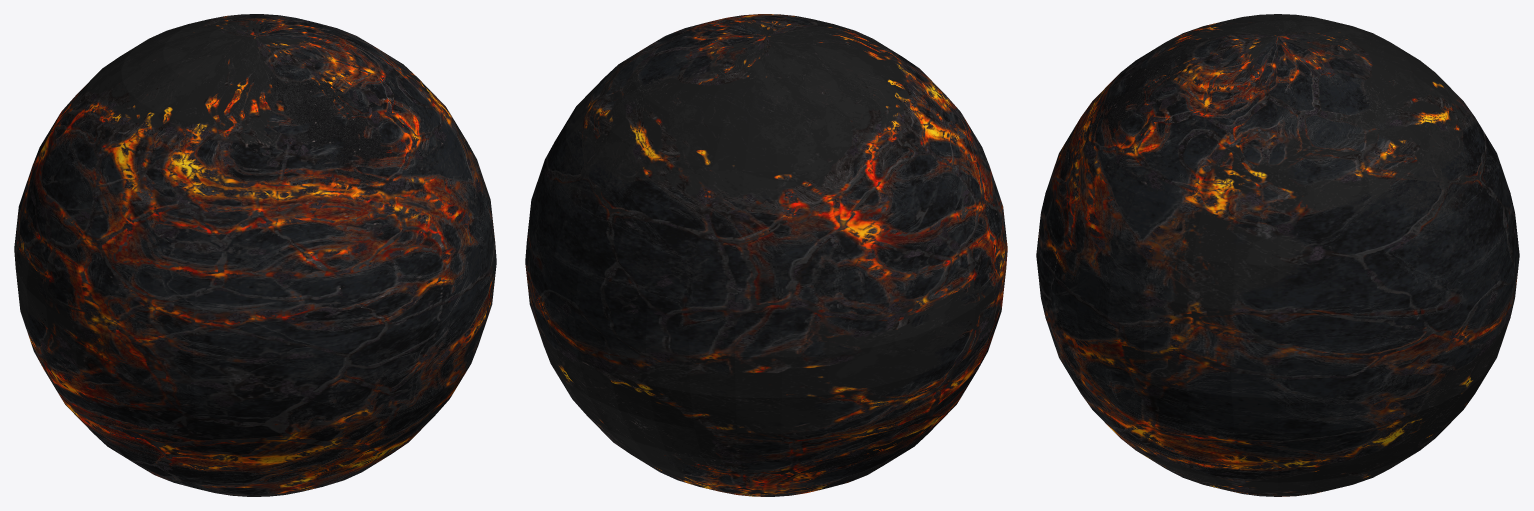
Rendered from burning_rock.obj.
3 renders of one model, left to right at view 1: azimuth 30°, elevation 25°; view 2: azimuth 150°, elevation 25°; view 3: azimuth 270°, elevation 25°, orthographic.
Parts seen in each view (by area): view 1: Sphère; view 2: Sphère; view 3: Sphère.
Part boxes in pixels (left/top/right/bottom): Sphère: left=14, top=14, right=496, bottom=496; Sphère: left=525, top=14, right=1007, bottom=496; Sphère: left=1036, top=14, right=1519, bottom=496.
Size of the model in its own units: 2 by 2 by 2.
